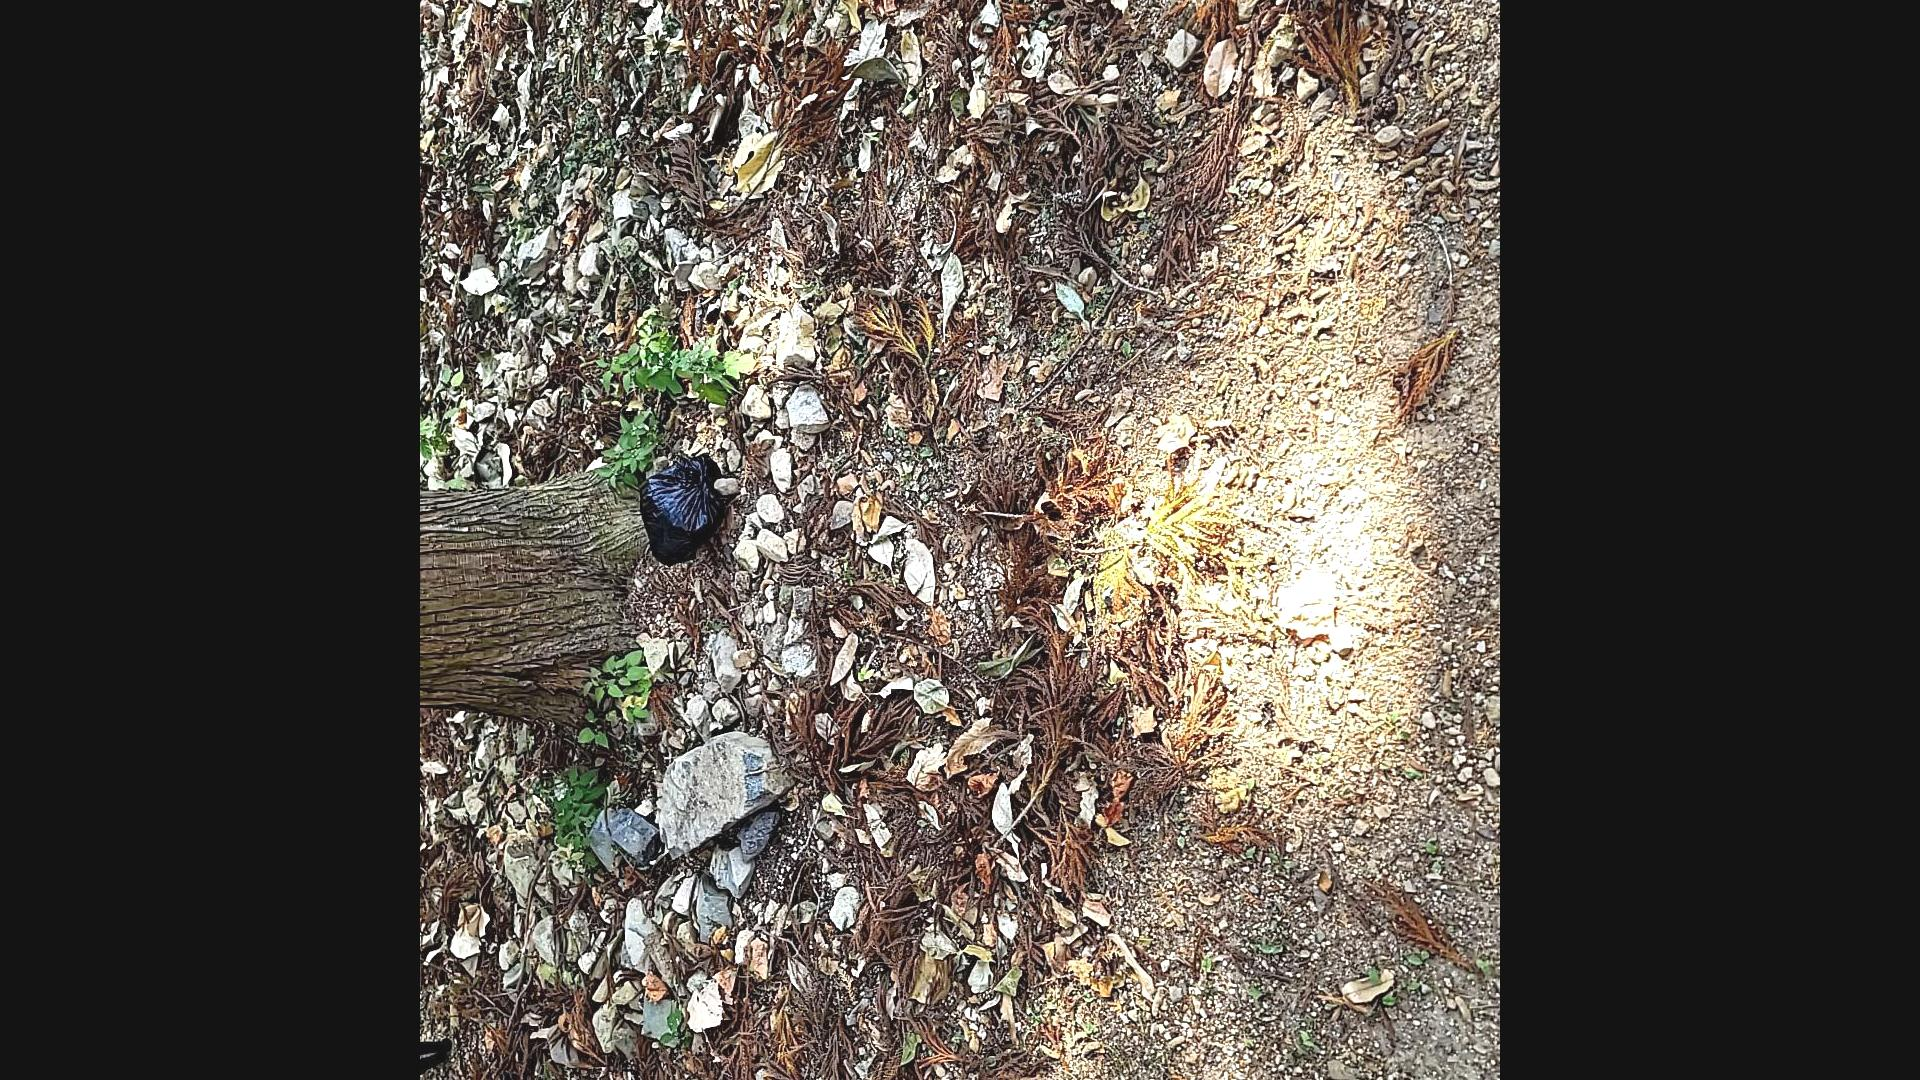black_bag: (634, 444, 729, 574)
